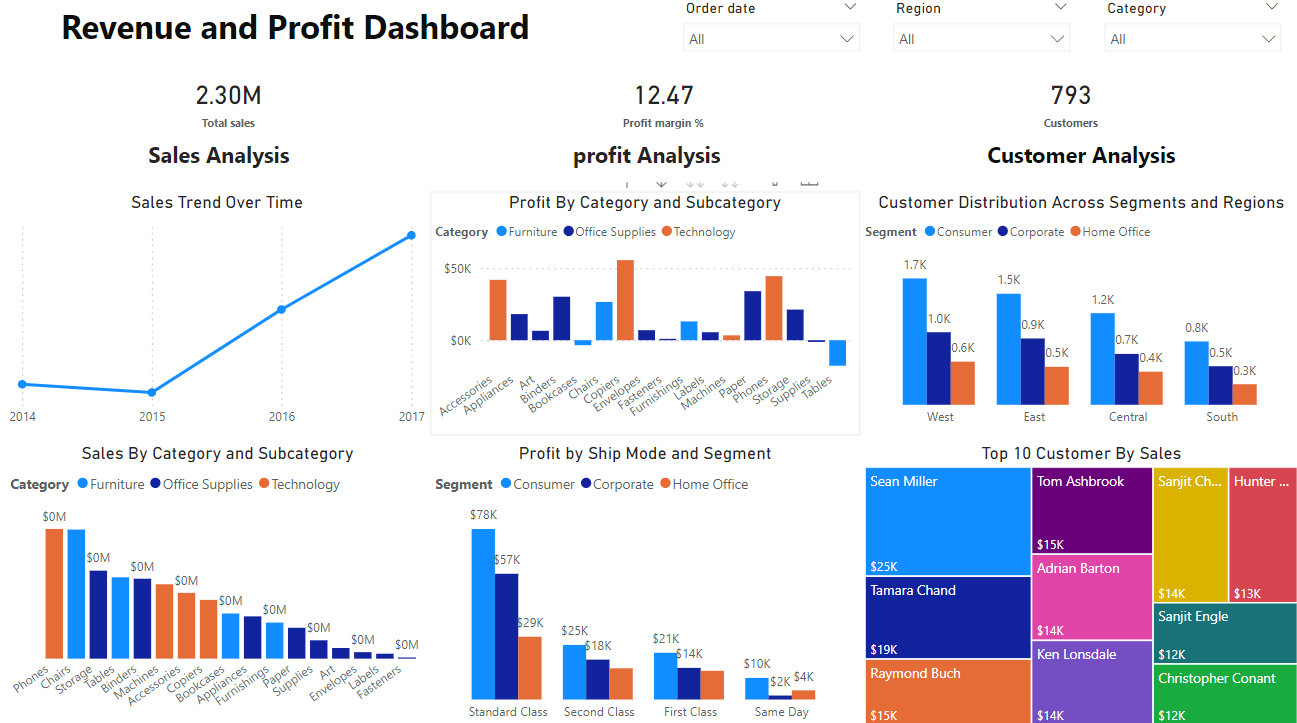

The dashboard page shown, as its layout file describes it:
{"tool":"powerbi","page":{"name":"Page 1","canvas":[1280,720],"ordinal":0},"visuals":[{"type":"columnChart","title":"Sales By Category and Subcategory","fields":{"Category":["Super_Store.Sub_Category"],"Y":["Sum(Super_Store.Sales)"],"Series":["Super_Store.Category"]},"box":[11.2,439.1,415.5,281.1],"z":0},{"type":"lineChart","title":"Sales Trend Over Time","fields":{"Y":["Sum(Super_Store.Sales)"],"Category":["Super_Store.Order_Date.Variation.Date Hierarchy.Year"]},"box":[10,192.8,416.7,238.8],"z":1000},{"type":"columnChart","title":"Profit By Category and Subcategory","fields":{"Category":["Super_Store.Category","Super_Store.Sub_Category"],"Y":["Sum(Super_Store.Profit)"],"Series":["Super_Store.Category"]},"box":[426.7,192.8,420.4,238.8],"z":2000},{"type":"clusteredColumnChart","title":"Profit by Ship Mode and Segment","fields":{"Category":["Super_Store.Ship_Mode"],"Y":["Sum(Super_Store.Profit)"],"Series":["Super_Store.Segment"]},"box":[426.7,439.1,420.4,281.1],"z":3000},{"type":"textbox","box":[10.4,136.8,417.7,47.6],"z":4000},{"type":"textbox","box":[428.2,136.8,420.7,47.6],"z":5000},{"type":"clusteredColumnChart","title":"Customer Distribution Across Segments and Regions","fields":{"Category":["Super_Store.Region"],"Y":["CountNonNull(Super_Store.Customer_Name)"],"Series":["Super_Store.Segment"]},"box":[847.1,192.8,432.9,238.8],"z":6000},{"type":"treemap","title":"Top 10 Customer By Sales","fields":{"Group":["Super_Store.Customer_Name"],"Values":["Sum(Super_Store.Sales)"]},"box":[847.1,439.1,432.9,281.1],"z":7000},{"type":"textbox","box":[847.4,136.8,432.6,47.6],"z":8000},{"type":"slicer","fields":{"Values":["Super_Store.Order_Date (groups)"]},"box":[664.3,0,192.8,73.4],"z":9000},{"type":"slicer","fields":{"Values":["Super_Store.Region"]},"box":[869.7,0,193.3,72.8],"z":10000},{"type":"slicer","fields":{"Values":["Super_Store.Category"]},"box":[1076.3,0,193.3,72.8],"z":11000},{"type":"textbox","box":[10,5,569.7,61],"z":12000},{"type":"card","fields":{"Values":["Count(Super_Store.Customer_Name)"]},"box":[977.7,73.4,150.5,63.4],"z":13000},{"type":"card","fields":{"Values":["Super_Store.Profit margin %"]},"box":[579.7,73.4,150.5,63.4],"z":15000},{"type":"card","fields":{"Values":["Super_Store.Total sales"]},"box":[154.2,73.4,150.5,63.4],"z":15001}]}

Visuals, with their boxes in screenshot pixels (x1, y1, x2, y2), scaled from the page's 1280x720 canvas onto the 1297x723 screenshot:
"Sales By Category and Subcategory" columnChart: 11,441,432,722
"Sales Trend Over Time" lineChart: 10,194,432,433
"Profit By Category and Subcategory" columnChart: 432,194,858,433
"Profit by Ship Mode and Segment" clusteredColumnChart: 432,441,858,722
textbox: 11,137,434,185
textbox: 434,137,860,185
"Customer Distribution Across Segments and Regions" clusteredColumnChart: 858,194,1296,433
"Top 10 Customer By Sales" treemap: 858,441,1296,722
textbox: 859,137,1296,185
slicer - Super_Store.Order_Date (groups): 673,0,868,74
slicer - Super_Store.Region: 881,0,1077,73
slicer - Super_Store.Category: 1091,0,1286,73
textbox: 10,5,587,66
card - Count(Super_Store.Customer_Name): 991,74,1143,137
card - Super_Store.Profit margin %: 587,74,740,137
card - Super_Store.Total sales: 156,74,309,137
